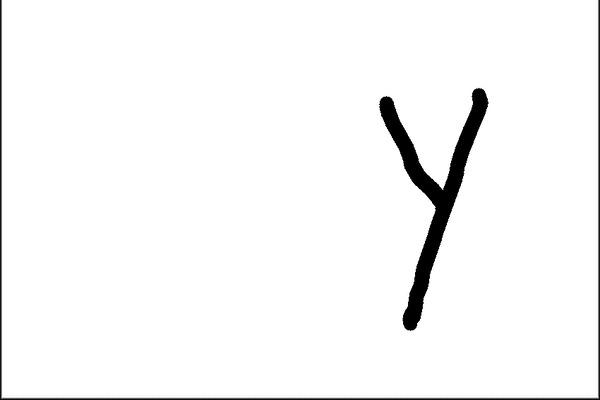Y: (364, 82, 504, 339)
